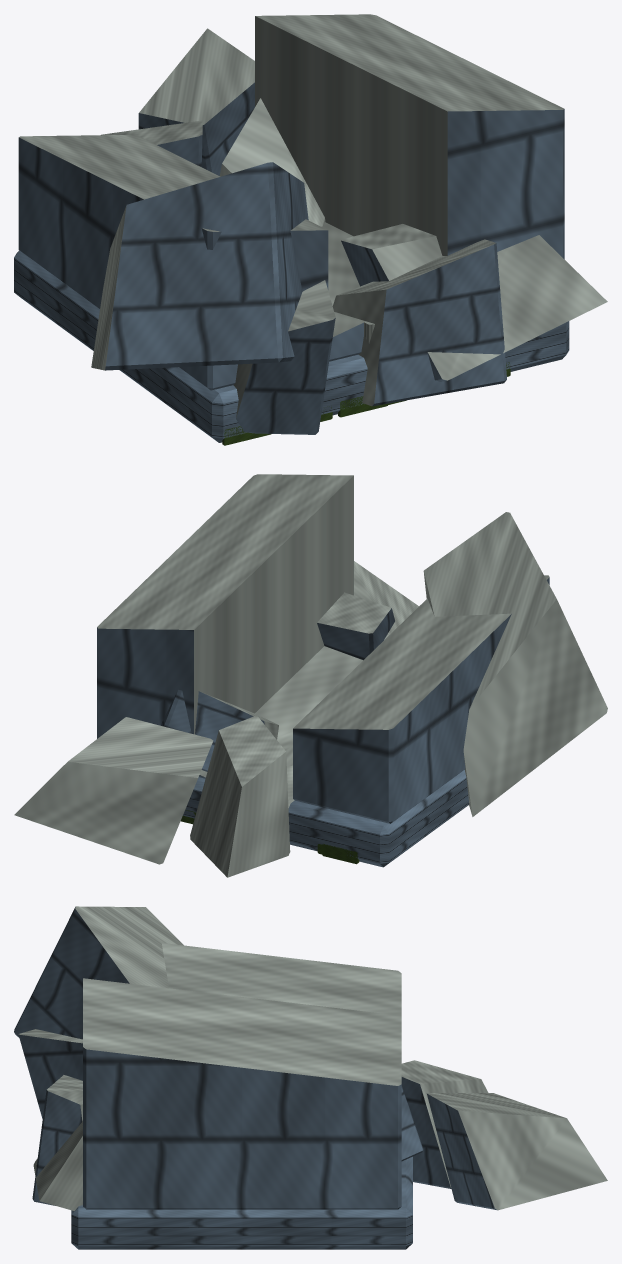
File: wall_ruins.glb
3 views of the same model, one above another, from view 1: azimuth 30°, elevation 25°; view 2: azimuth 150°, elevation 25°; view 3: azimuth 270°, elevation 25° (orthographic). The views are drawn at different scales.
Visible parts, largest first — view 1: RuinedArchitecture; view 2: RuinedArchitecture; view 3: RuinedArchitecture.
Part boxes in pixels (x1,y1,x2,y2): RuinedArchitecture: (14,14,607,445); RuinedArchitecture: (14,474,607,877); RuinedArchitecture: (14,906,607,1249).
Size of the model in its own units: 7.7 by 4.38 by 10.44.
Materials: 1 (1 with a texture image).
